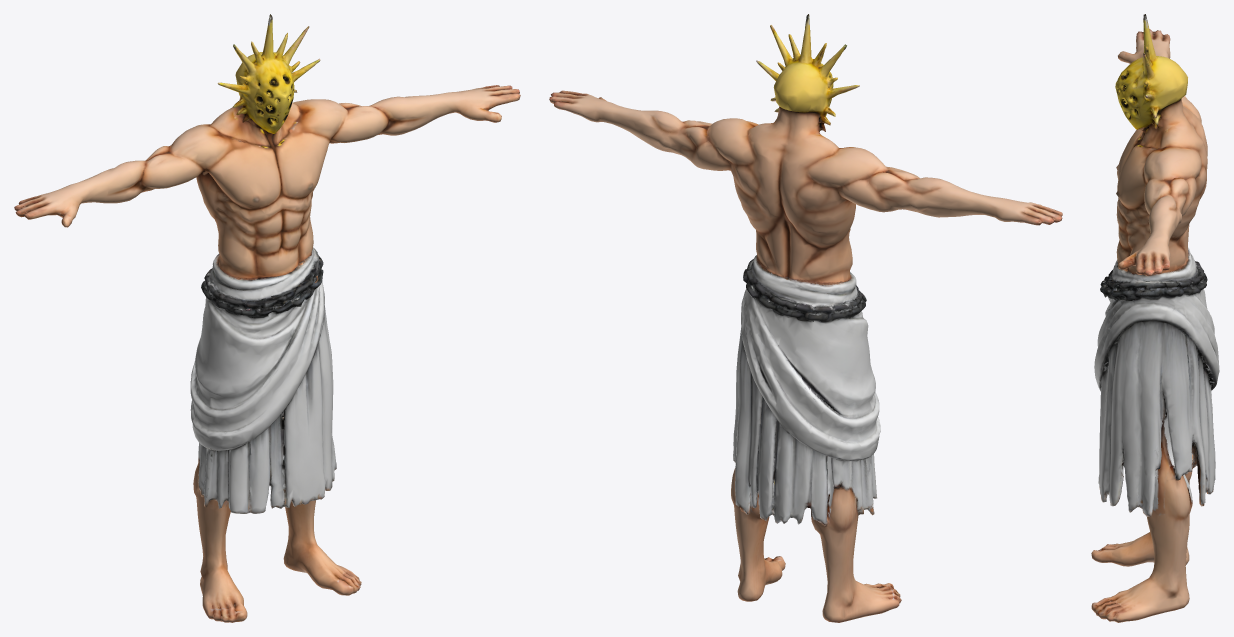
The model's file is Warrior_in_Chains_1213185305_texture.fbx.
3 views of the same model, side by side, from view 1: azimuth 30°, elevation 25°; view 2: azimuth 150°, elevation 25°; view 3: azimuth 270°, elevation 25° (orthographic). The views are drawn at different scales.
Parts seen in each view (by area): view 1: Mesh1.0; view 2: Mesh1.0; view 3: Mesh1.0.
Boxes of the visible parts, <box> form: Mesh1.0: <box>14,14,520,622</box>; Mesh1.0: <box>549,14,1062,622</box>; Mesh1.0: <box>1091,14,1219,622</box>.
Size of the model in its own units: 174 by 191 by 38.62.
1 material, 1 textured.
